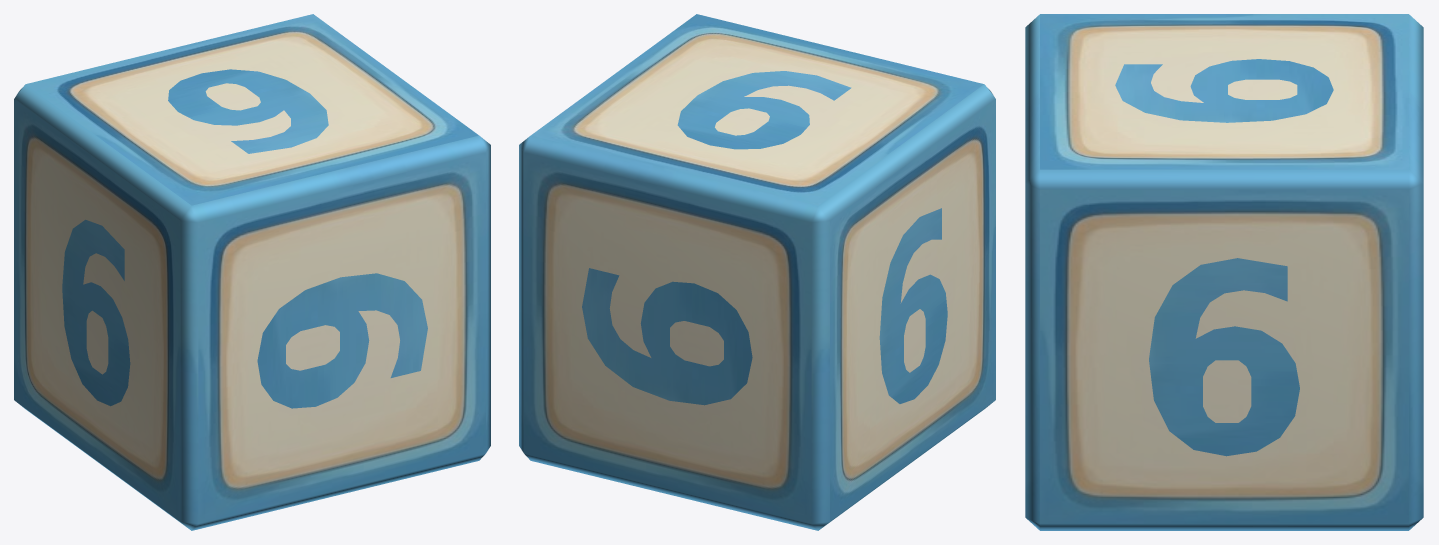
3 renders of one model, left to right at view 1: azimuth 30°, elevation 25°; view 2: azimuth 150°, elevation 25°; view 3: azimuth 270°, elevation 25°, orthographic. The views are drawn at different scales.
Visible parts, largest first — view 1: Cube6; view 2: Cube6; view 3: Cube6.
Part boxes in pixels (x1,y1,x2,y2): Cube6: [14, 14, 490, 530]; Cube6: [519, 14, 995, 530]; Cube6: [1025, 14, 1423, 530].
Size of what is drawn, in the model's own units: 0.513 by 0.513 by 0.513.
1 material, 1 textured.
